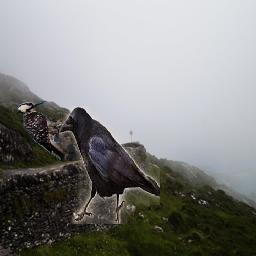Crow: (60, 106, 161, 224)
Woodpecker: (11, 101, 67, 162)
